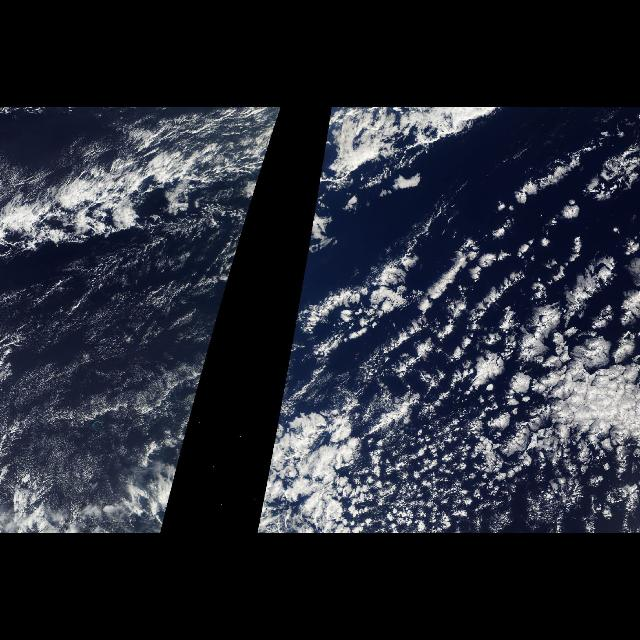Flower: (340, 139, 640, 533)
Sugar: (3, 262, 208, 524)
